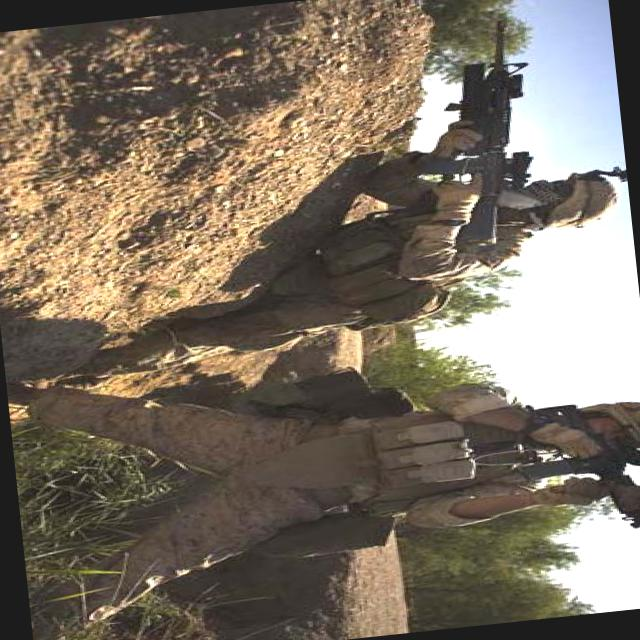long weapon: (419, 18, 546, 250), (523, 389, 639, 570)
